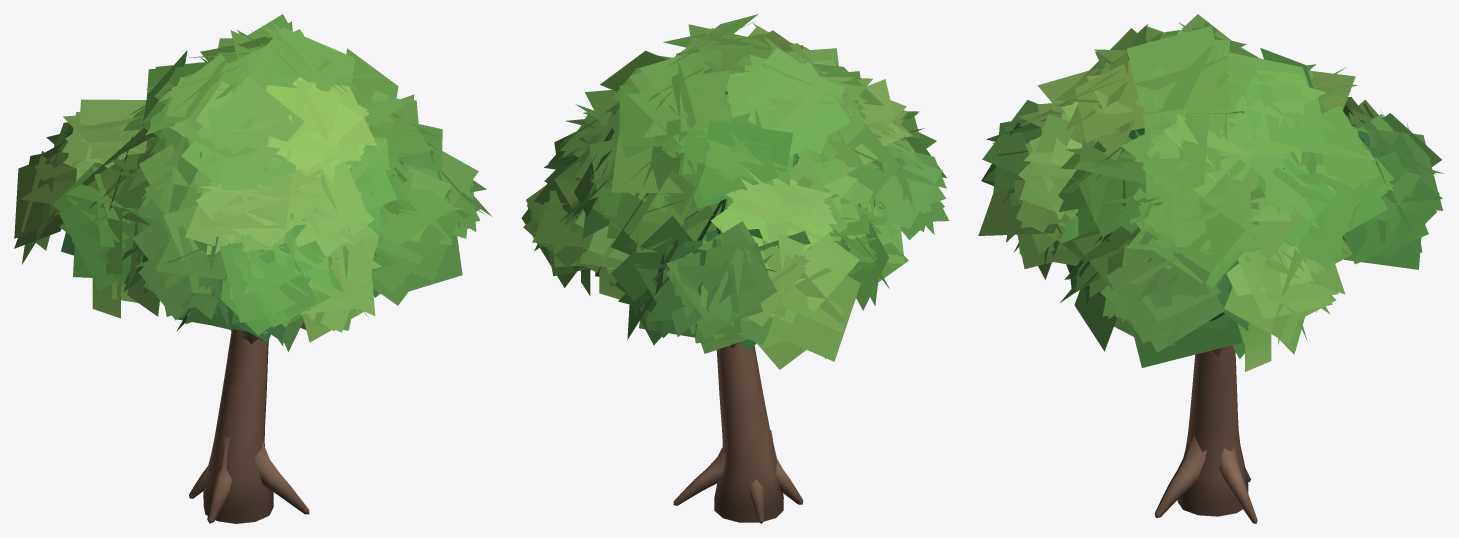
File: tree-village-round-v2.glb
The picture shows the model from 3 angles, left to right: view 1: azimuth 30°, elevation 25°; view 2: azimuth 150°, elevation 25°; view 3: azimuth 270°, elevation 25°; orthographic projection. The views are drawn at different scales.
Parts seen in each view (by area): view 1: cards_round, bark; view 2: cards_round, bark; view 3: cards_round, bark.
Boxes of the visible parts, x1=… form: cards_round: x1=14, y1=14, x2=492, y2=351; bark: x1=189, y1=329, x2=309, y2=523; cards_round: x1=521, y1=14, x2=949, y2=369; bark: x1=673, y1=342, x2=803, y2=523; cards_round: x1=978, y1=14, x2=1443, y2=371; bark: x1=1154, y1=345, x2=1257, y2=523.
Size of the model in its own units: 5.29 by 6.39 by 5.5.
